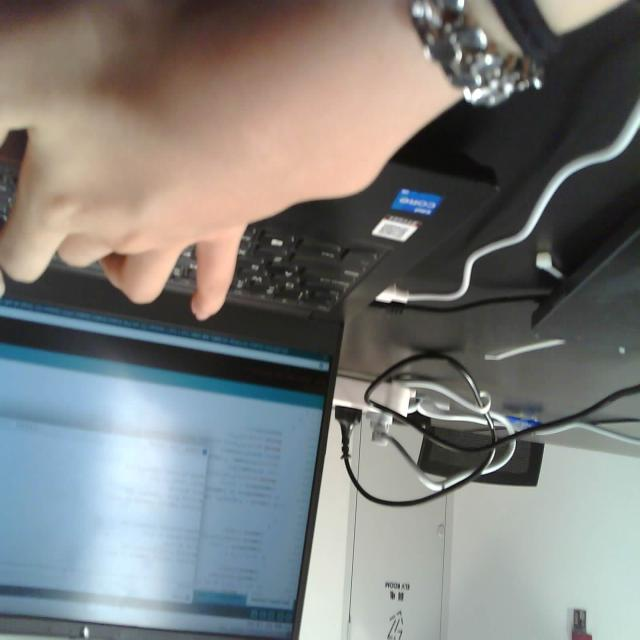keyboard-with-hands: (0, 33, 499, 324)
